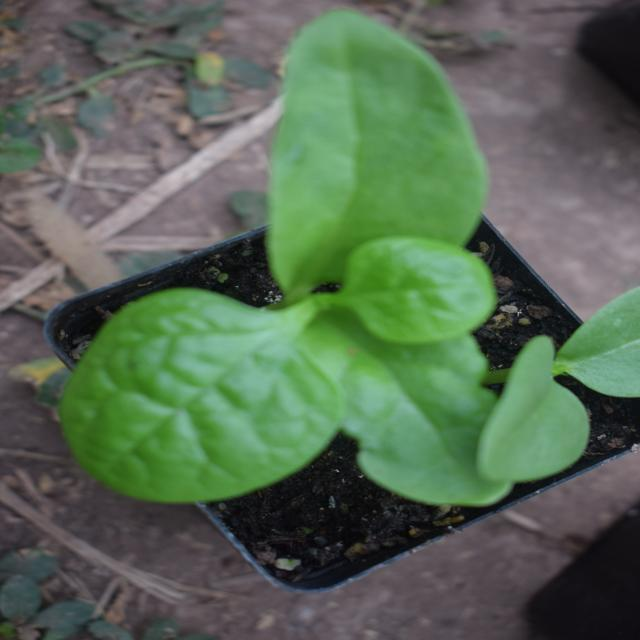Ceylon spinach: (45, 119, 508, 573)
